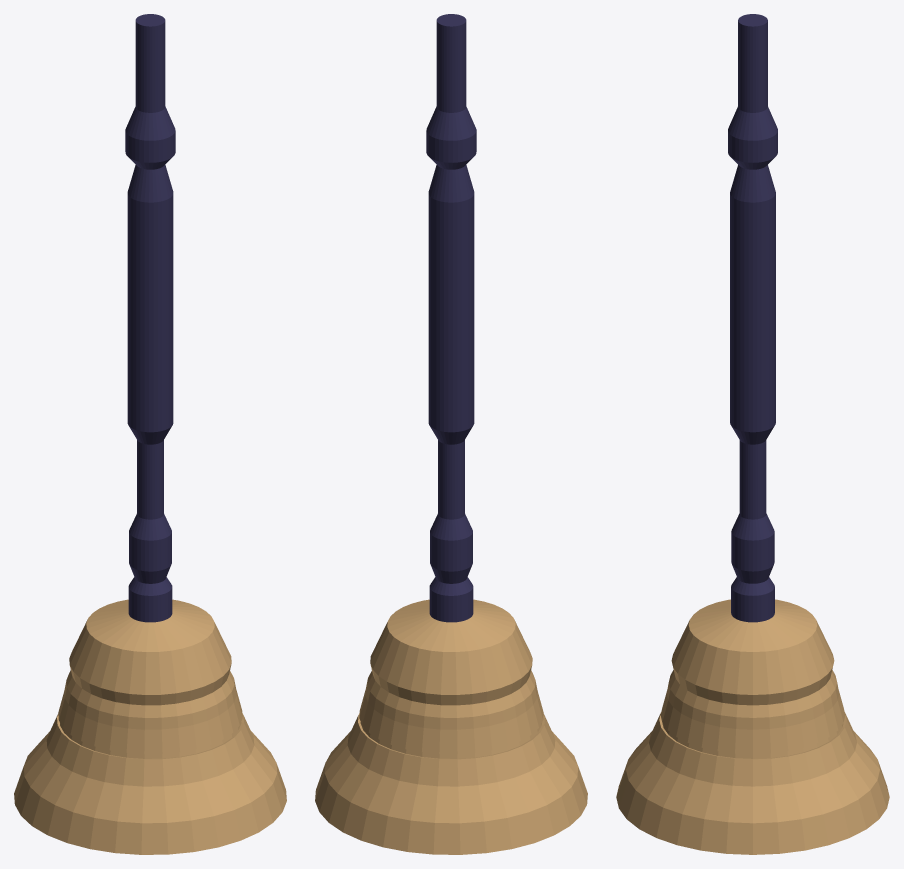
File: bell_on_stick.fbx
3 views of the same model, side by side, from view 1: azimuth 30°, elevation 25°; view 2: azimuth 150°, elevation 25°; view 3: azimuth 270°, elevation 25° (orthographic).
Parts seen in each view (by area): view 1: Circle, Cylinder; view 2: Circle, Cylinder; view 3: Circle, Cylinder.
Part boxes in pixels (<box>): Circle: <box>14,599,286,854</box>; Cylinder: <box>125,14,175,622</box>; Circle: <box>315,599,587,854</box>; Cylinder: <box>426,14,476,622</box>; Circle: <box>616,599,889,854</box>; Cylinder: <box>728,14,777,622</box>.
Size of the model in its own units: 82.48 by 260 by 82.48.
Materials: 3 (3 with a texture image).
